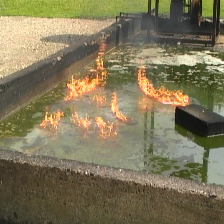fire_h: (65, 33, 106, 102), (137, 59, 189, 107), (111, 91, 134, 123), (39, 106, 64, 130), (95, 115, 117, 138)
fire_l: (69, 109, 91, 130)
